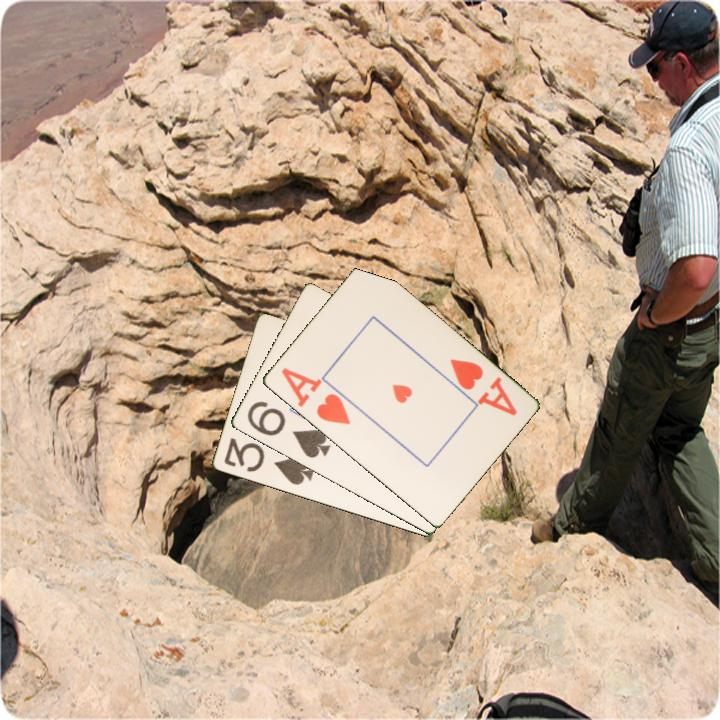3s: (220, 434, 317, 488)
6s: (243, 397, 333, 461)
Ah: (277, 364, 353, 428), (446, 355, 520, 419)
